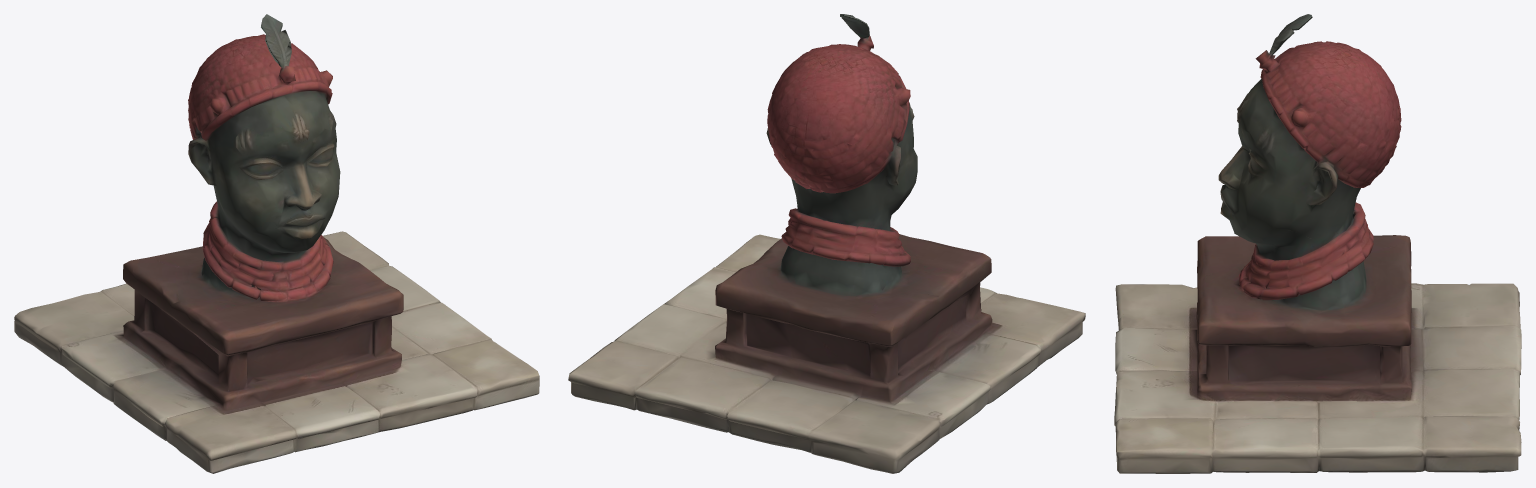
The model's file is museum_bronze_head.glb.
3 views of the same model, side by side, from view 1: azimuth 30°, elevation 25°; view 2: azimuth 150°, elevation 25°; view 3: azimuth 270°, elevation 25° (orthographic). The views are drawn at different scales.
Visible parts, largest first — view 1: tripo_node_ebb10636-04a5-4c22-a3a8-202a672110e6; view 2: tripo_node_ebb10636-04a5-4c22-a3a8-202a672110e6; view 3: tripo_node_ebb10636-04a5-4c22-a3a8-202a672110e6.
Boxes of the visible parts, x1=… form: tripo_node_ebb10636-04a5-4c22-a3a8-202a672110e6: x1=14, y1=14, x2=539, y2=473; tripo_node_ebb10636-04a5-4c22-a3a8-202a672110e6: x1=568, y1=14, x2=1085, y2=473; tripo_node_ebb10636-04a5-4c22-a3a8-202a672110e6: x1=1114, y1=14, x2=1521, y2=473.
Bounding box in the file's own units: 0.9825 × 1 × 0.9984.
1 material, 1 textured.
